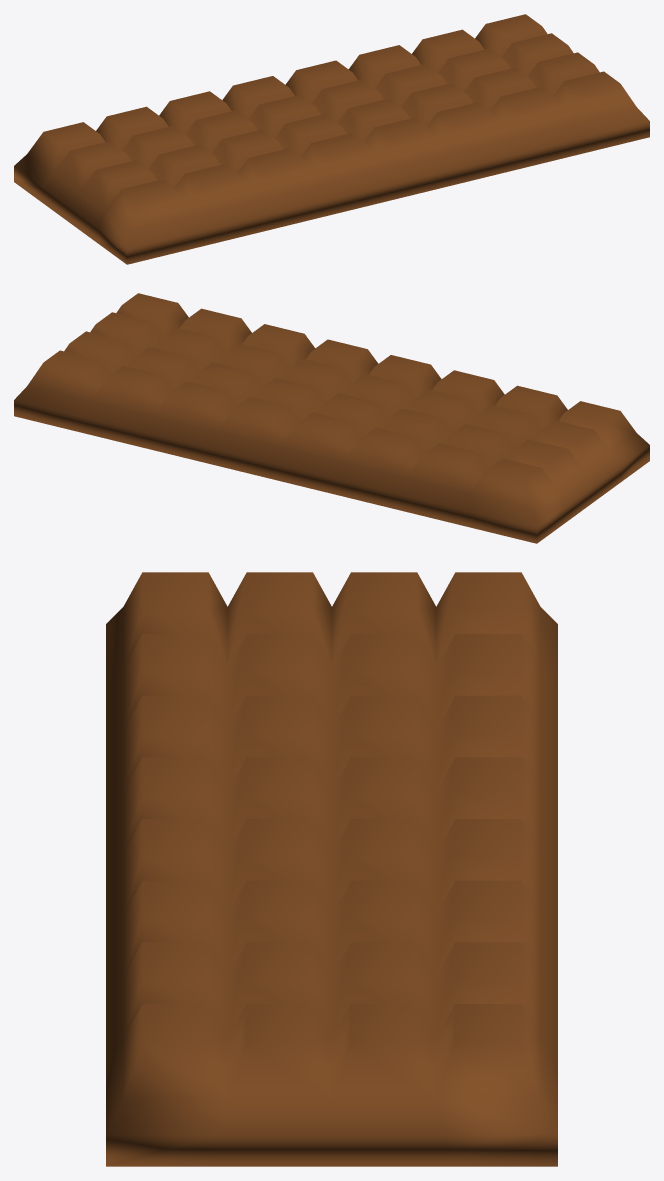
The model's file is Keyboard3.fbx.
3 views of the same model, one above another, from view 1: azimuth 30°, elevation 25°; view 2: azimuth 150°, elevation 25°; view 3: azimuth 270°, elevation 25° (orthographic). The views are drawn at different scales.
Visible parts, largest first — view 1: Cube.088; view 2: Cube.088; view 3: Cube.088.
Boxes of the visible parts, x1,y1,x2,y2 form: Cube.088: [14, 14, 649, 264]; Cube.088: [14, 293, 649, 543]; Cube.088: [106, 572, 557, 1166].
Bounding box in the file's own units: 66.08 × 6.27 × 24.75.
